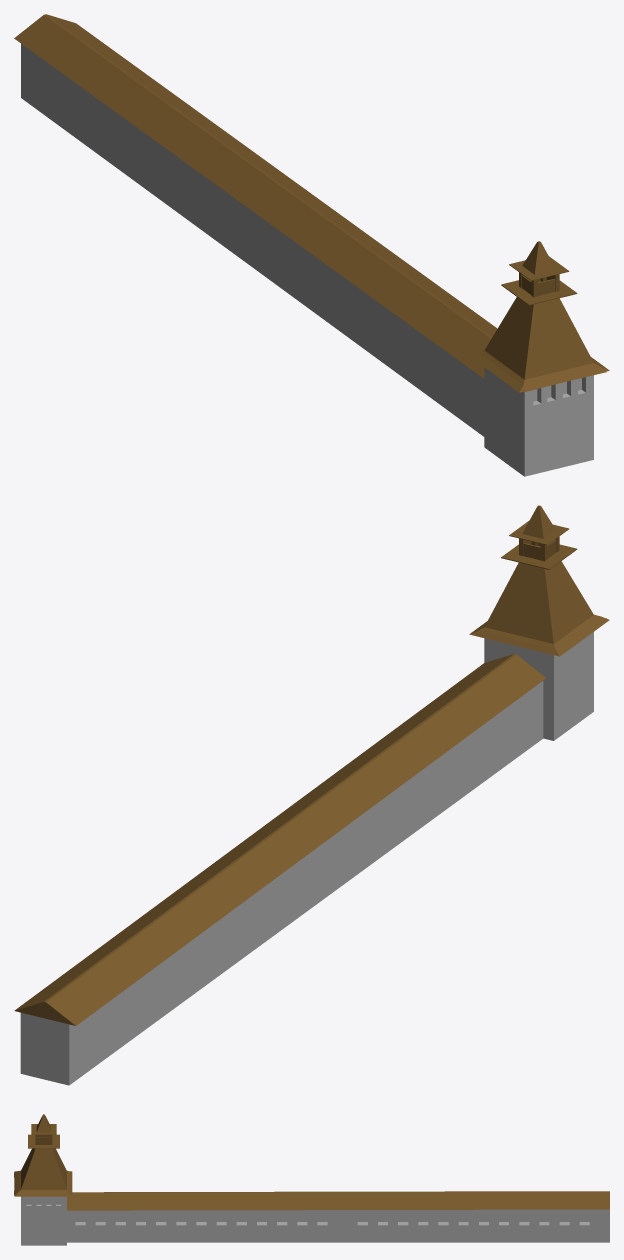
3 views of the same model, one above another, from view 1: azimuth 30°, elevation 25°; view 2: azimuth 150°, elevation 25°; view 3: azimuth 270°, elevation 25° (orthographic). The views are drawn at different scales.
Parts seen in each view (by area): view 1: Cube, Cube.001, Cube.002; view 2: Cube, Cube.001, Cube.002; view 3: Cube, Cube.001, Cube.002.
Part boxes in pixels (<box>): Cube: <box>21,44,593,476</box>; Cube.001: <box>14,14,497,378</box>; Cube.002: <box>469,241,609,392</box>; Cube: <box>20,632,593,1085</box>; Cube.001: <box>14,654,545,1025</box>; Cube.002: <box>469,505,609,656</box>; Cube: <box>21,1196,609,1245</box>; Cube.001: <box>67,1191,609,1210</box>; Cube.002: <box>14,1114,72,1196</box>.
Size of the model in its own units: 0.342 by 0.7624 by 3.4.
